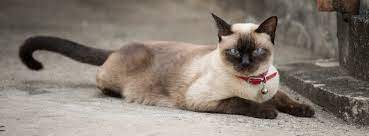cat: (20, 8, 325, 122)
